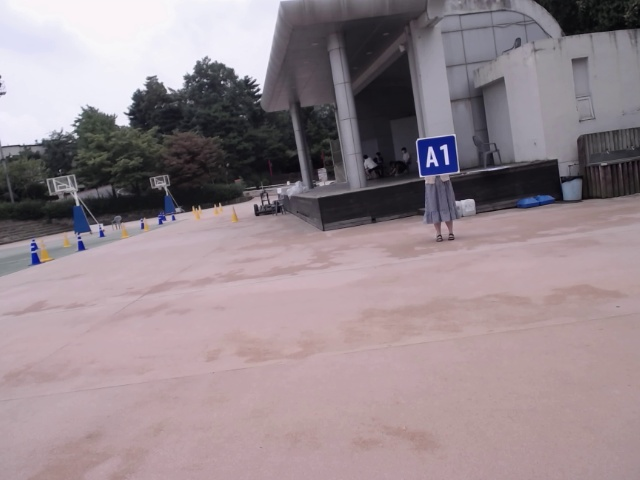delivery_a1: (415, 134, 459, 177)
